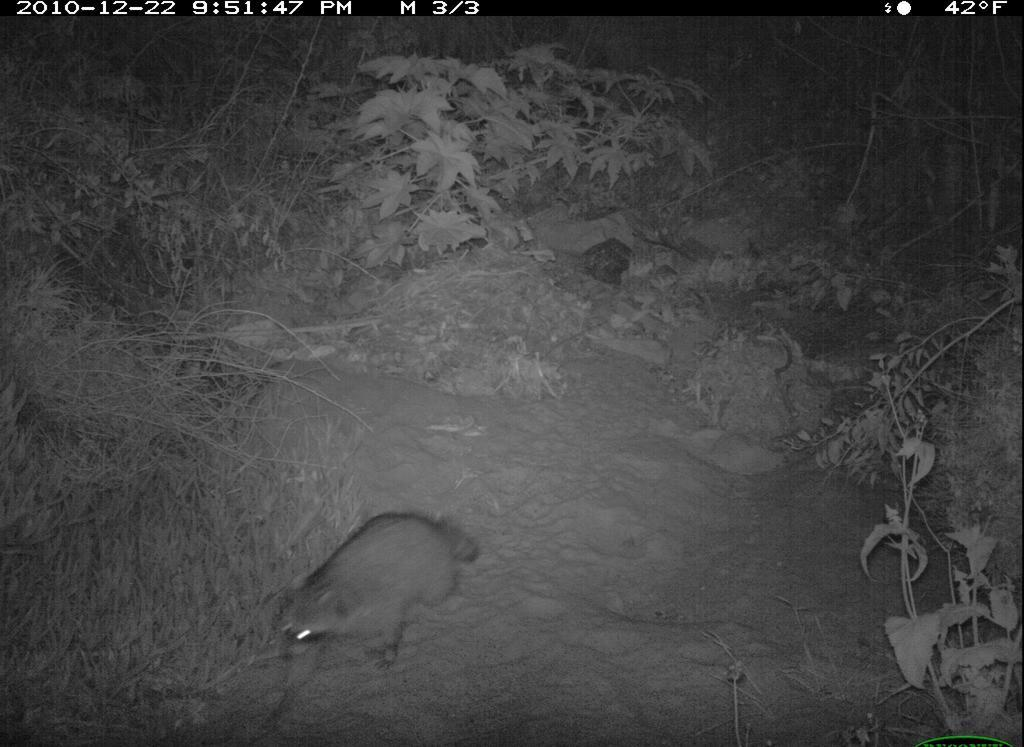raccoon: (263, 501, 507, 712)
